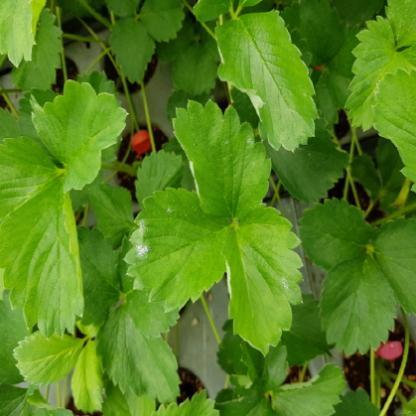Strawberry_Powdery_Mildew_Leaf: (214, 7, 320, 153), (123, 186, 235, 314), (219, 201, 306, 356), (170, 98, 273, 221)
